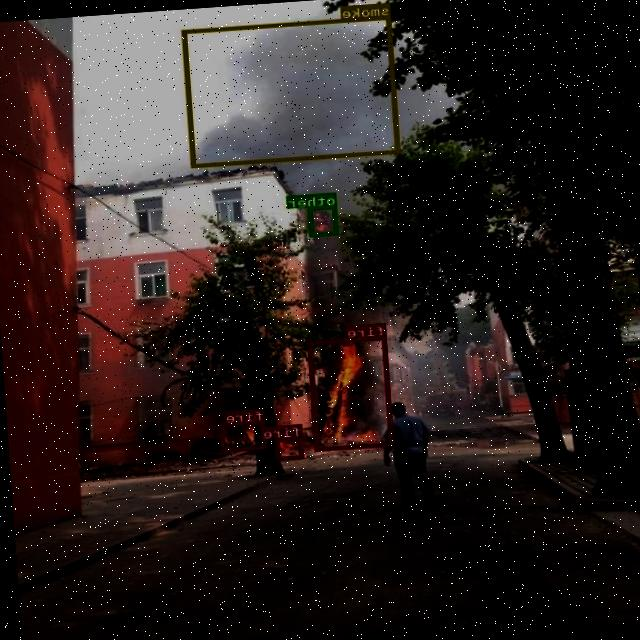fire: (308, 335, 394, 450), (220, 420, 267, 450), (276, 435, 304, 459)
smoke: (182, 14, 401, 167)
